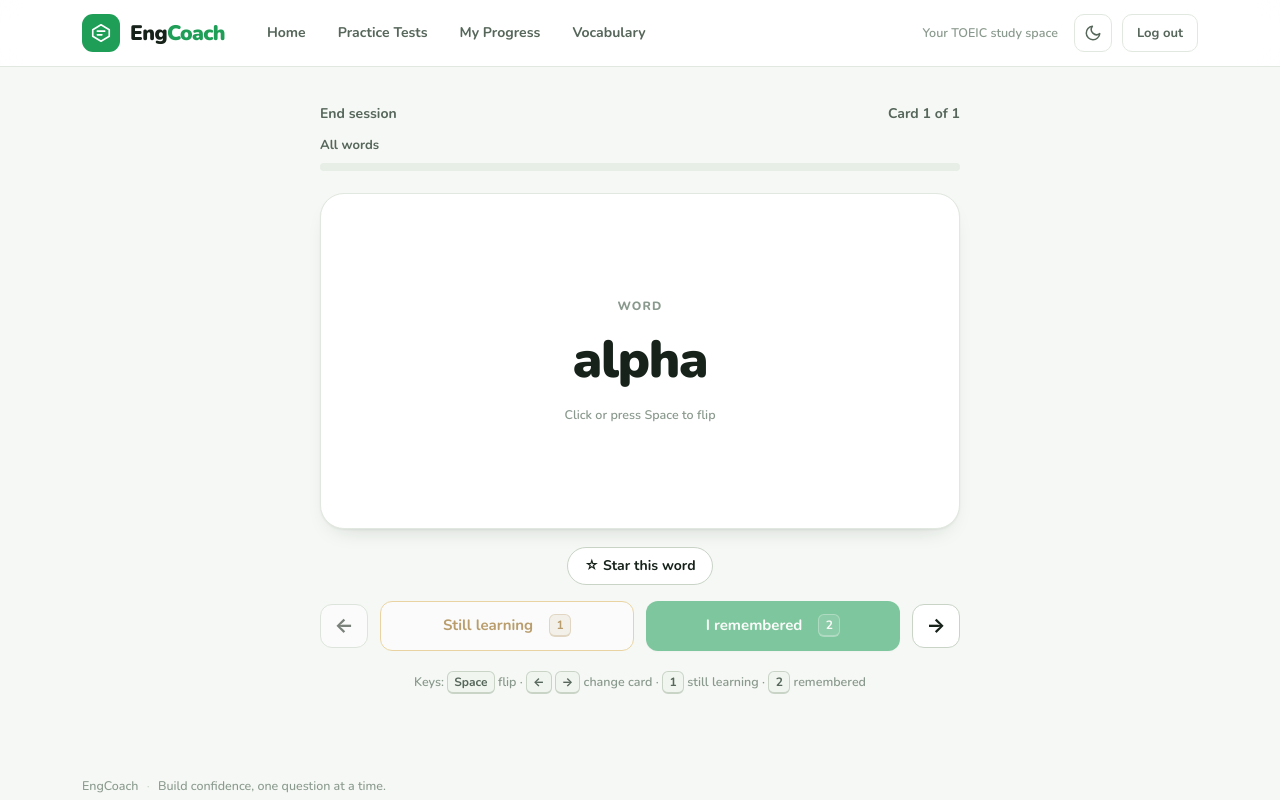
Test: Flashcards page › offers to study more when more words are in this group than the deck holds
Click the button with aria-label "Show meaning" at (640, 361), box [320, 193, 960, 529]
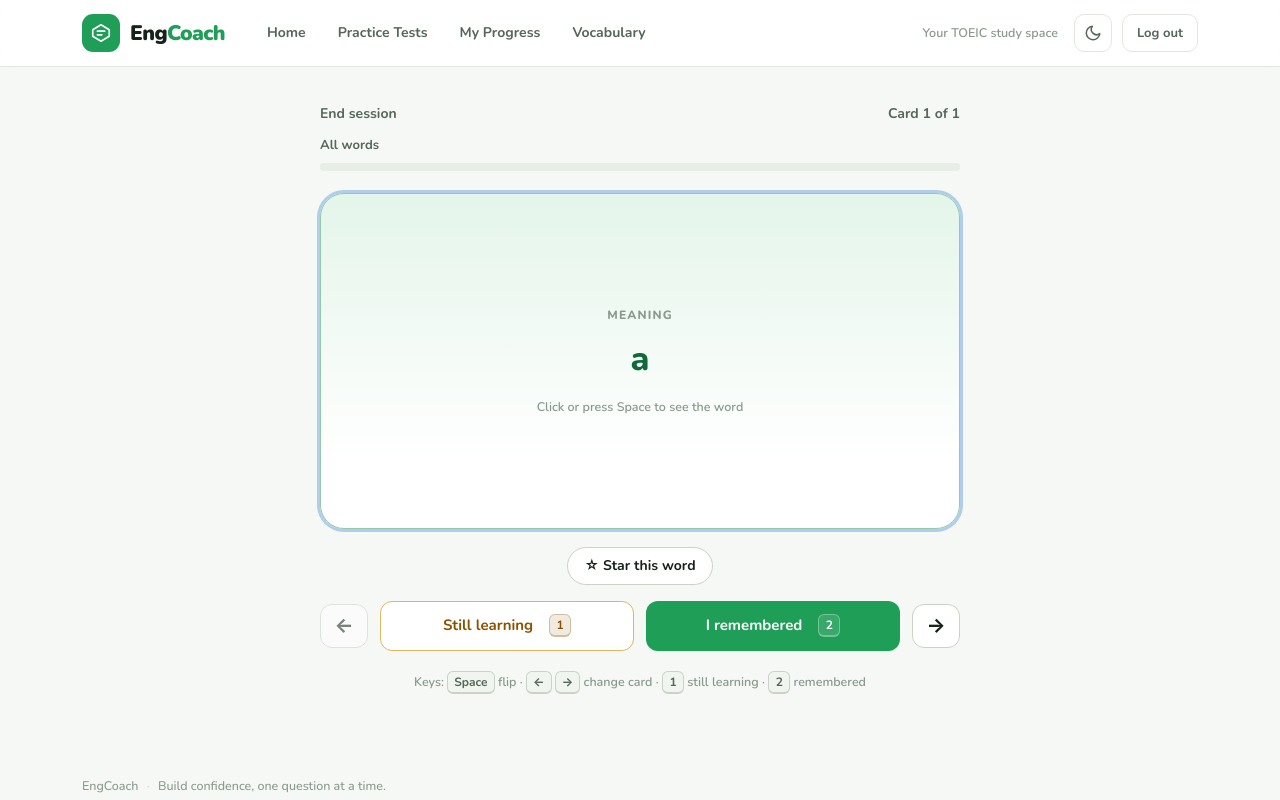
Click the button "I remembered 2" at (773, 626), box [646, 600, 900, 650]
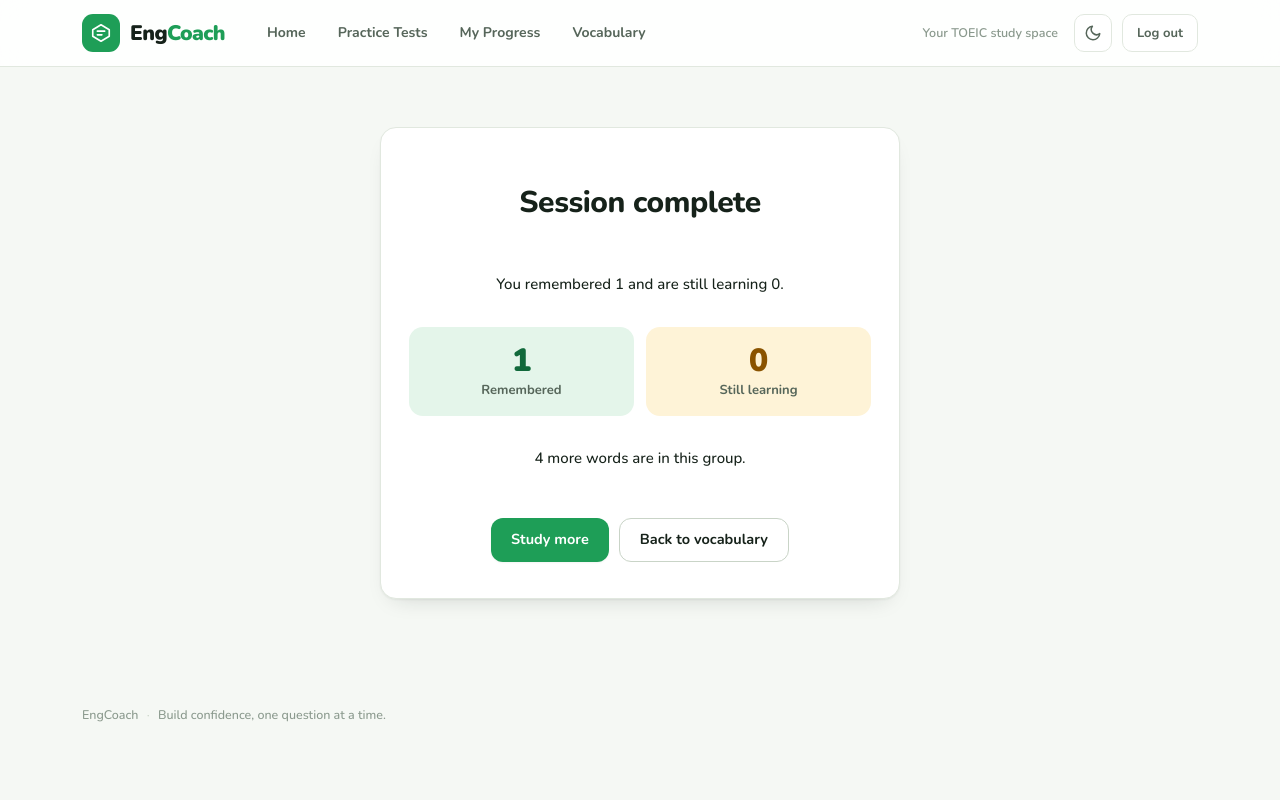
Check: the text "4 more words are in this group." is shown, box [534, 447, 746, 471]
Click the button "Study more" at (550, 540), box [491, 518, 609, 562]
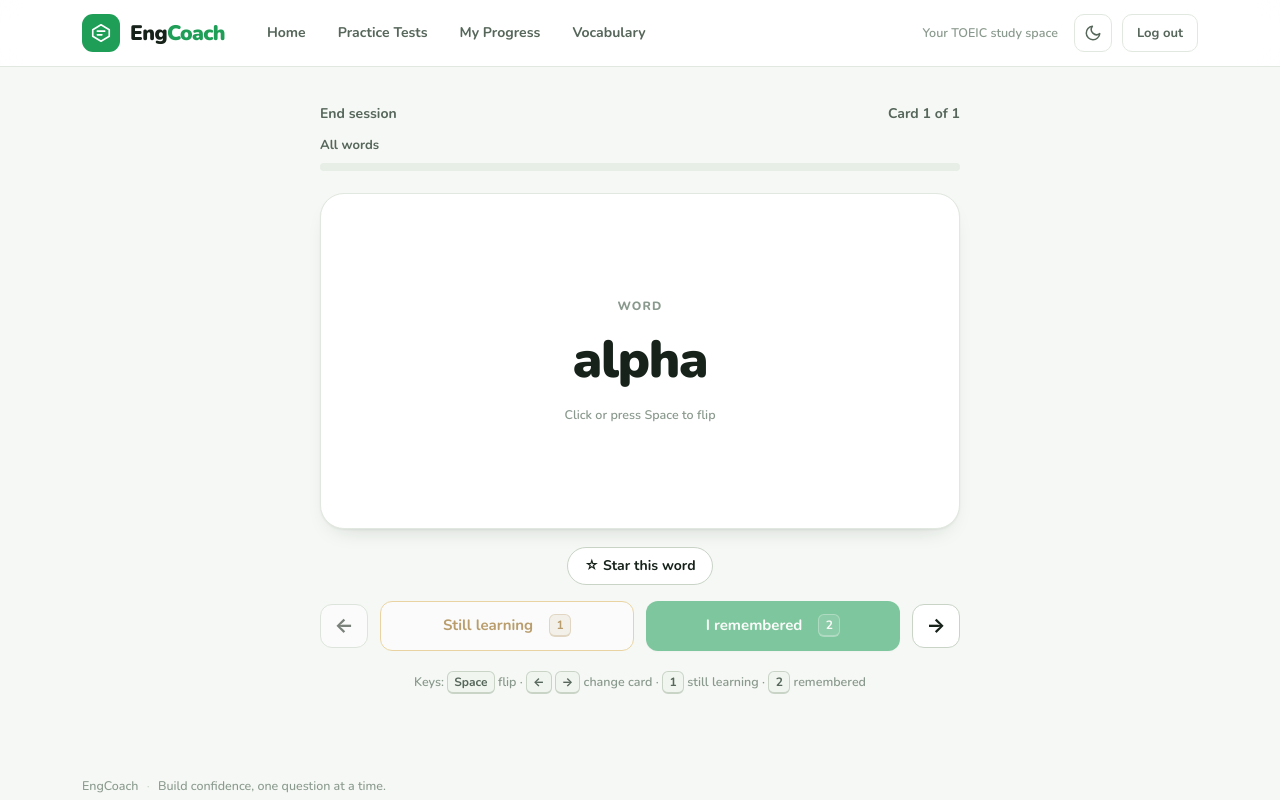
Check: the text "Card 1 of 1" is shown, box [888, 103, 960, 125]
